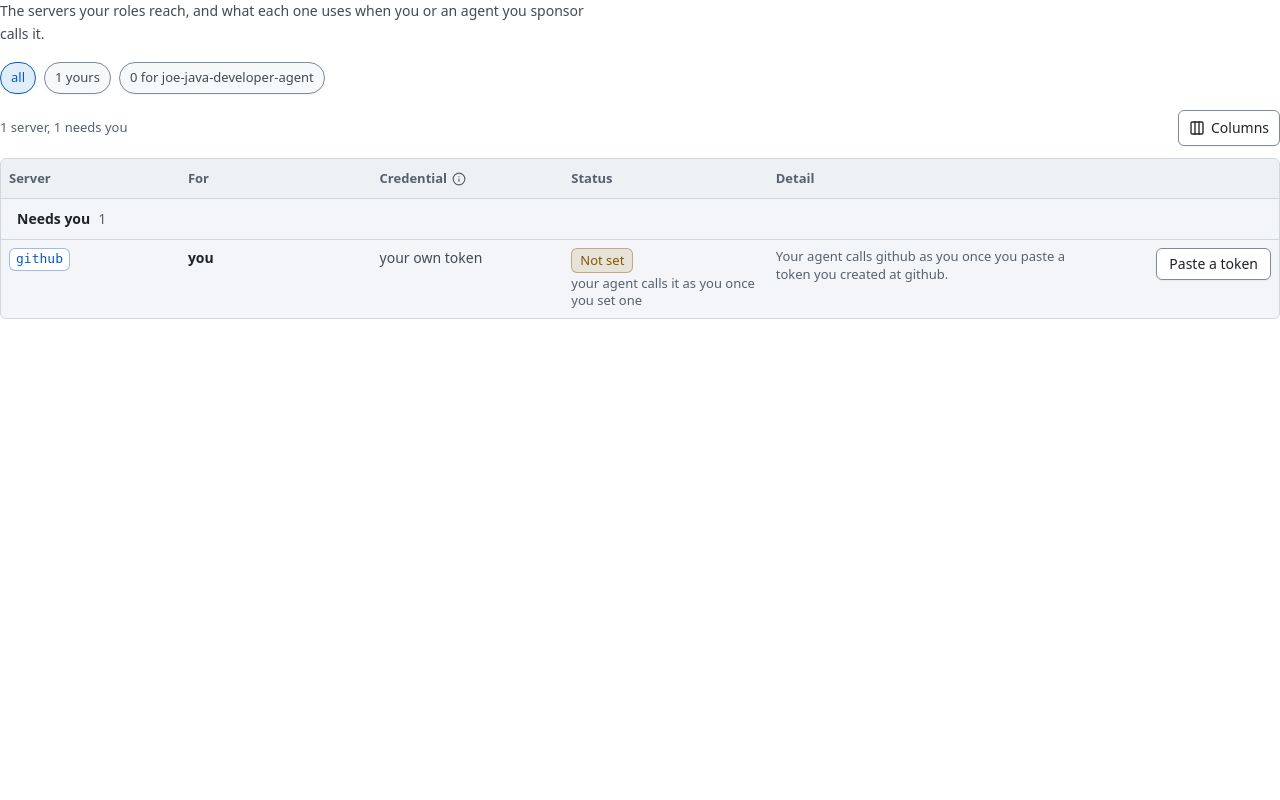
Scenario: the Credentials tab › sends a pasted token once, with its expiry, and keeps none of it
This screenshot has width=1280, height=800.
Click the button "Paste a token" at (1214, 264), box [1156,248,1271,280]
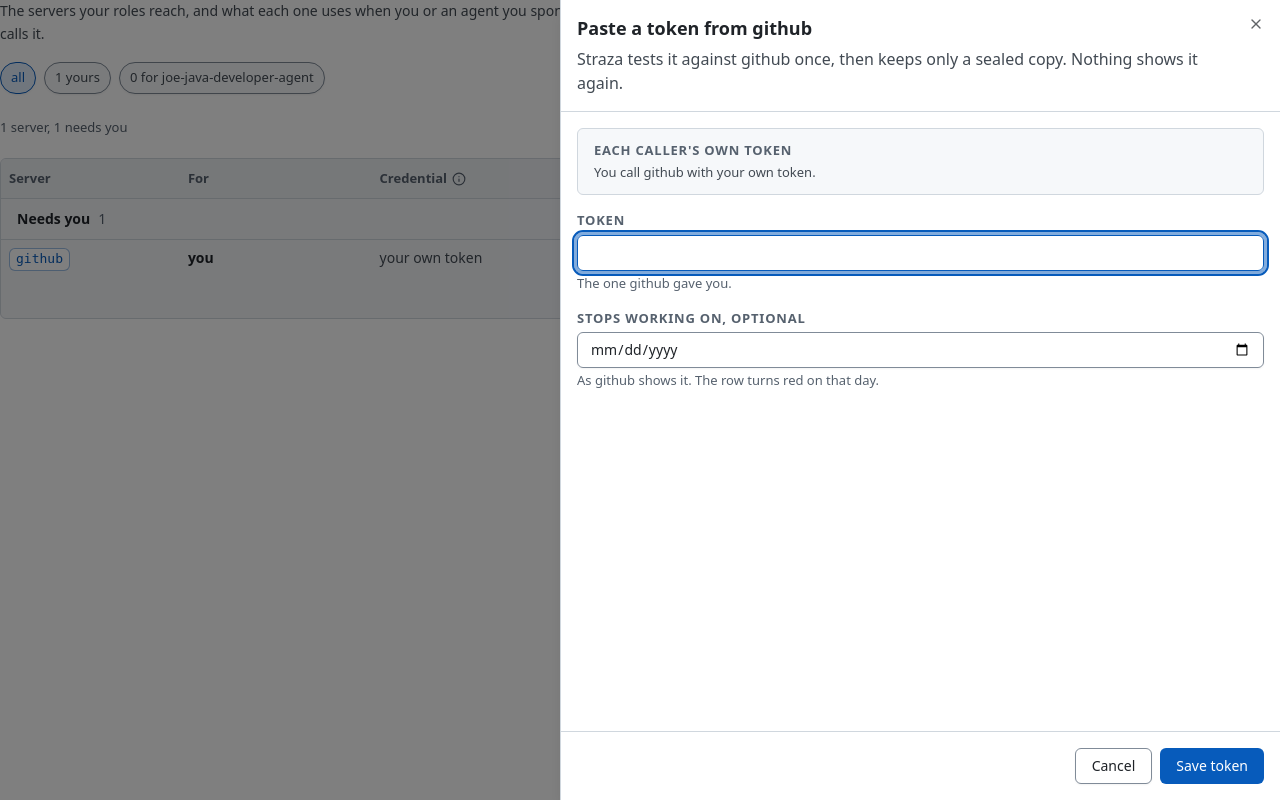
Click the button "Save token" at (1212, 766), box [1160,748,1264,784]
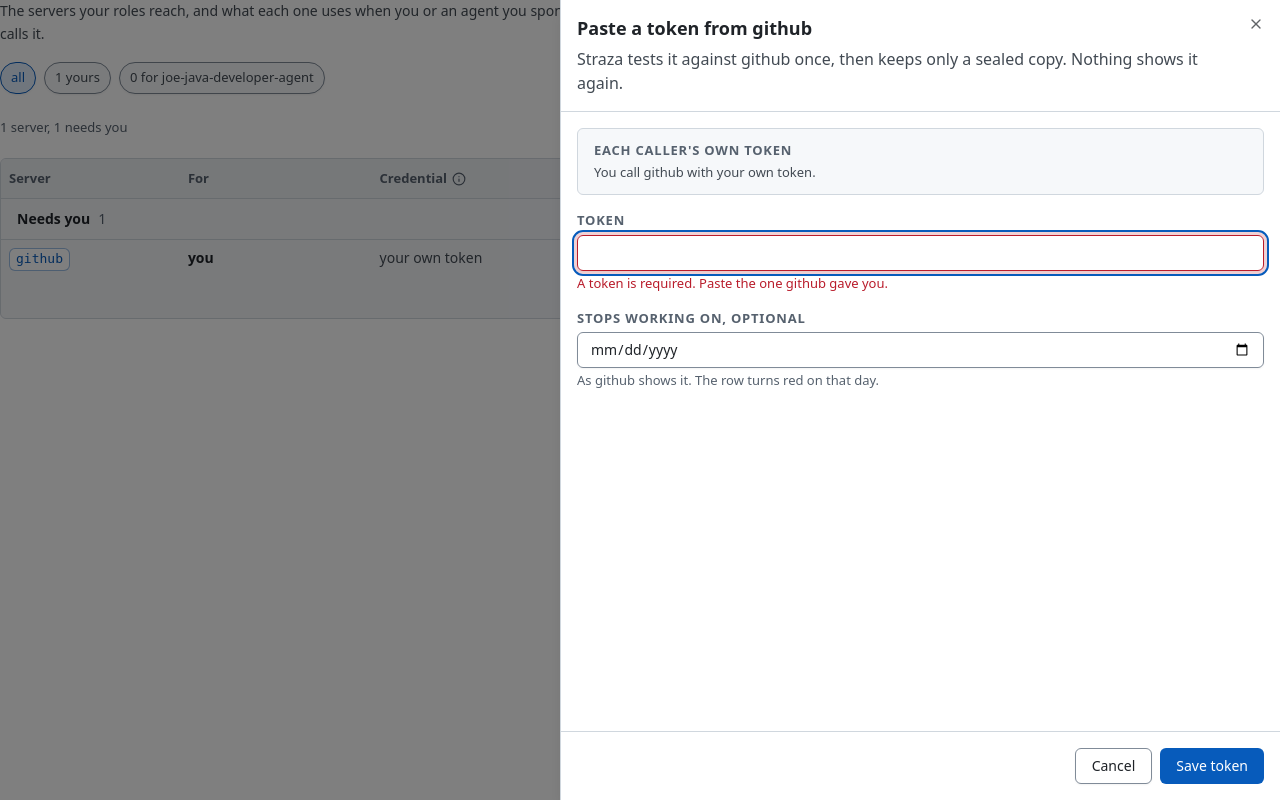
Type "ghp_secret_value_never_shown" into the password field labelled "Token" at (920, 253), box [577,235,1264,271]
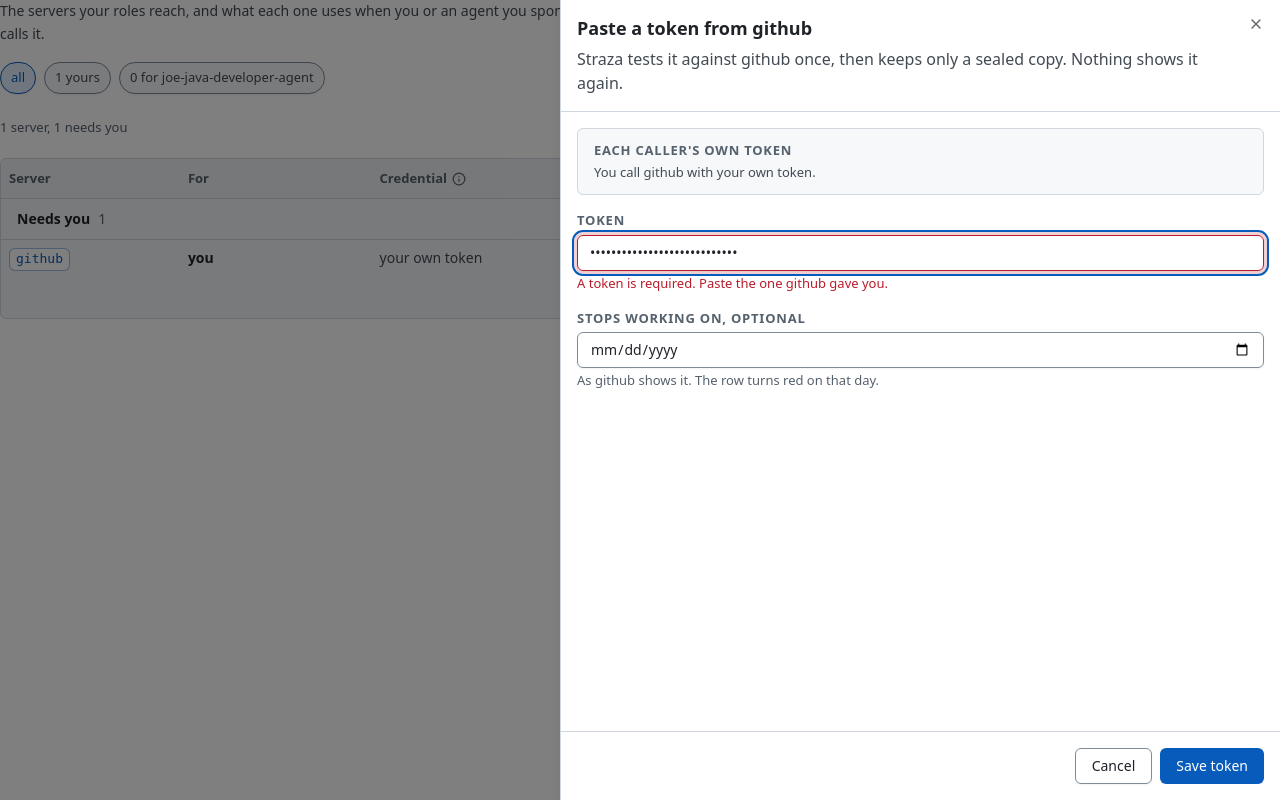
Type "2026-12-31" into the date field labelled "Stops working on, optional" at (920, 350), box [577,332,1264,368]
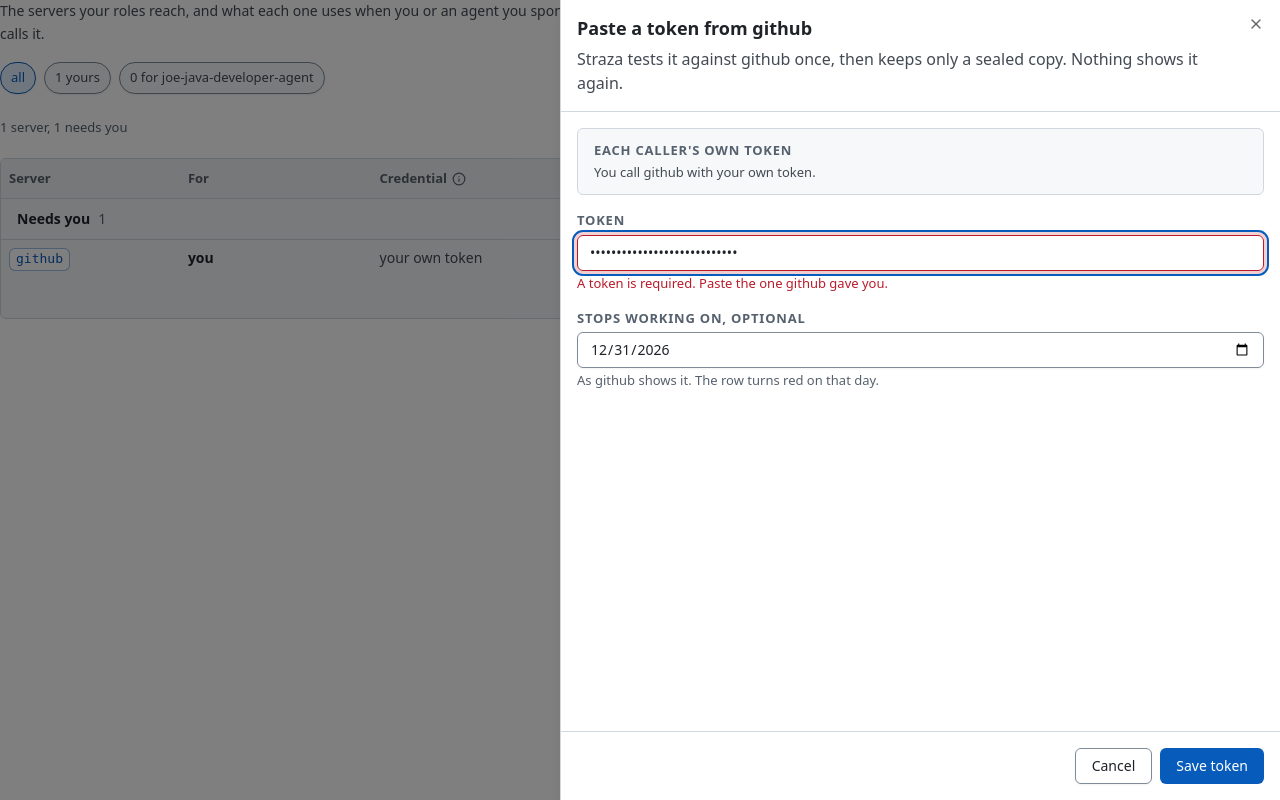
Click the button "Save token" at (1212, 766), box [1160,748,1264,784]
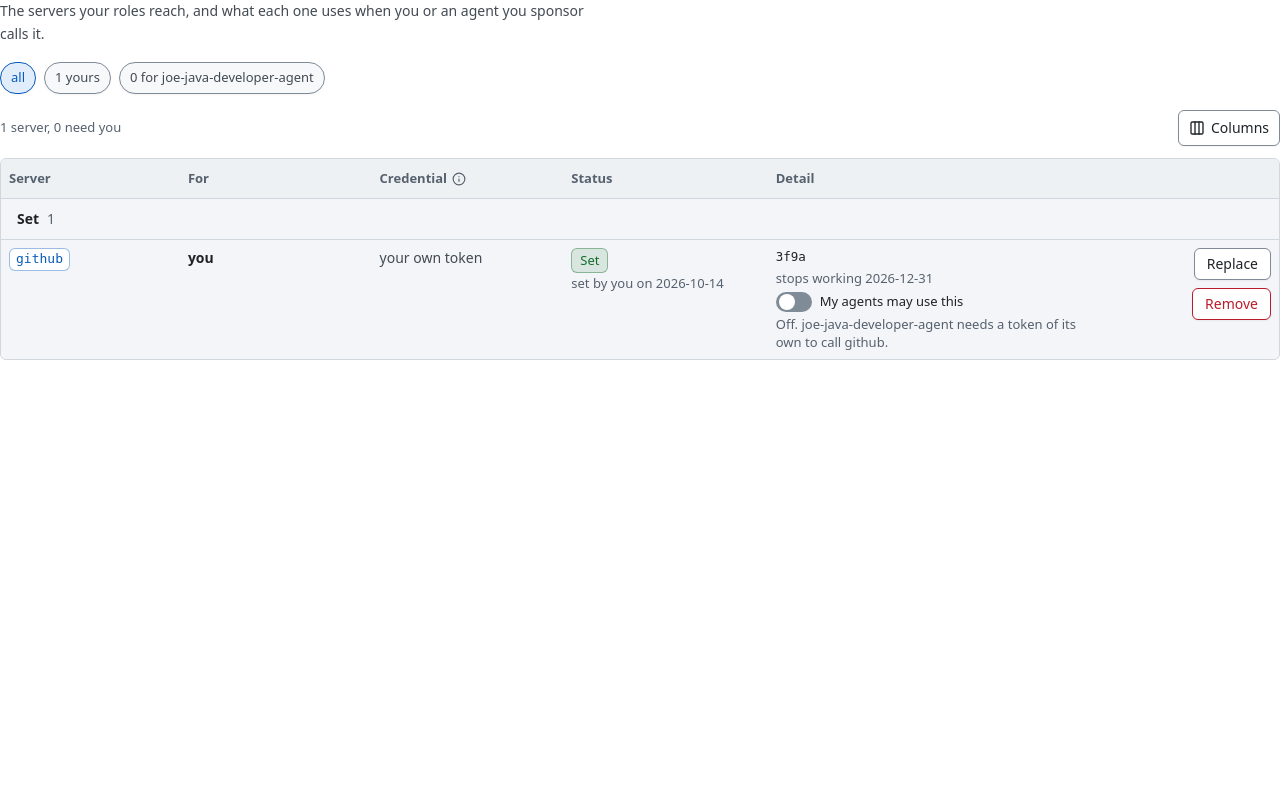
Check: the 1st text "Set" is shown, box [17,209,39,229]
Check: the text "3f9a" is shown, box [776,248,806,266]
